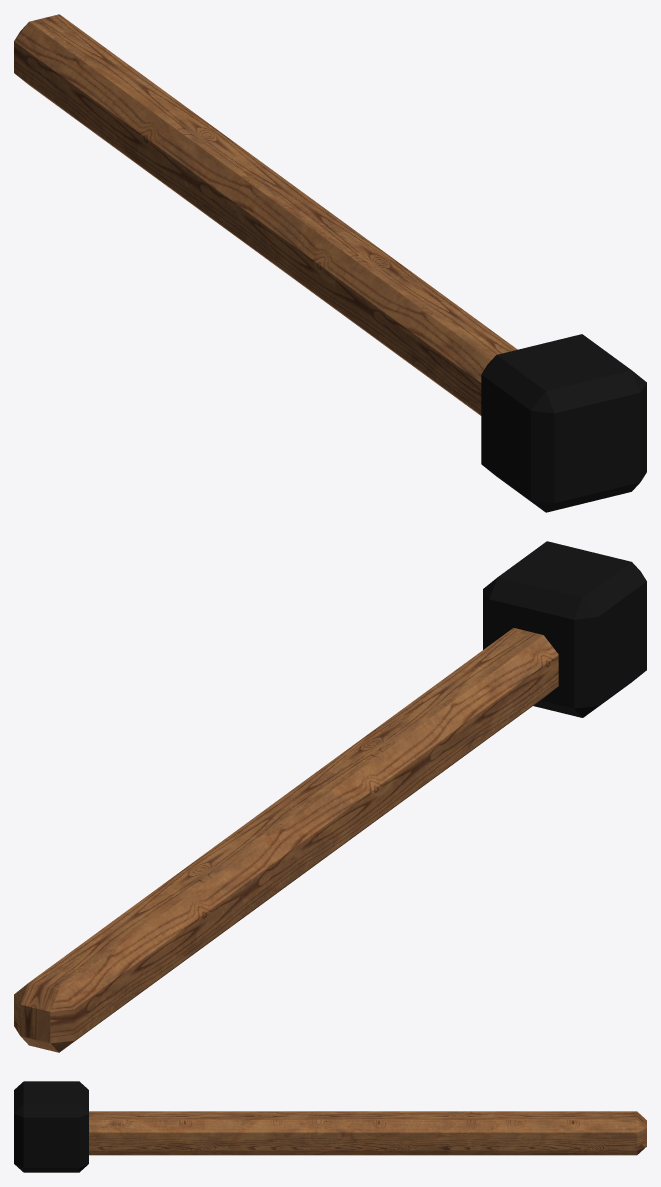
Rendered from Glockenspiel mallet .fbx.
3 views of the same model, one above another, from view 1: azimuth 30°, elevation 25°; view 2: azimuth 150°, elevation 25°; view 3: azimuth 270°, elevation 25° (orthographic). The views are drawn at different scales.
Visible parts, largest first — view 1: pCube4482; view 2: pCube4482; view 3: pCube4482.
Boxes of the visible parts, x1,y1,x2,y2 form: pCube4482: (14,14,646,512); pCube4482: (14,541,646,1052); pCube4482: (14,1081,646,1172).
Size of the model in its own units: 0.0775 by 0.0775 by 0.6527.
Materials: 1 (1 with a texture image).
